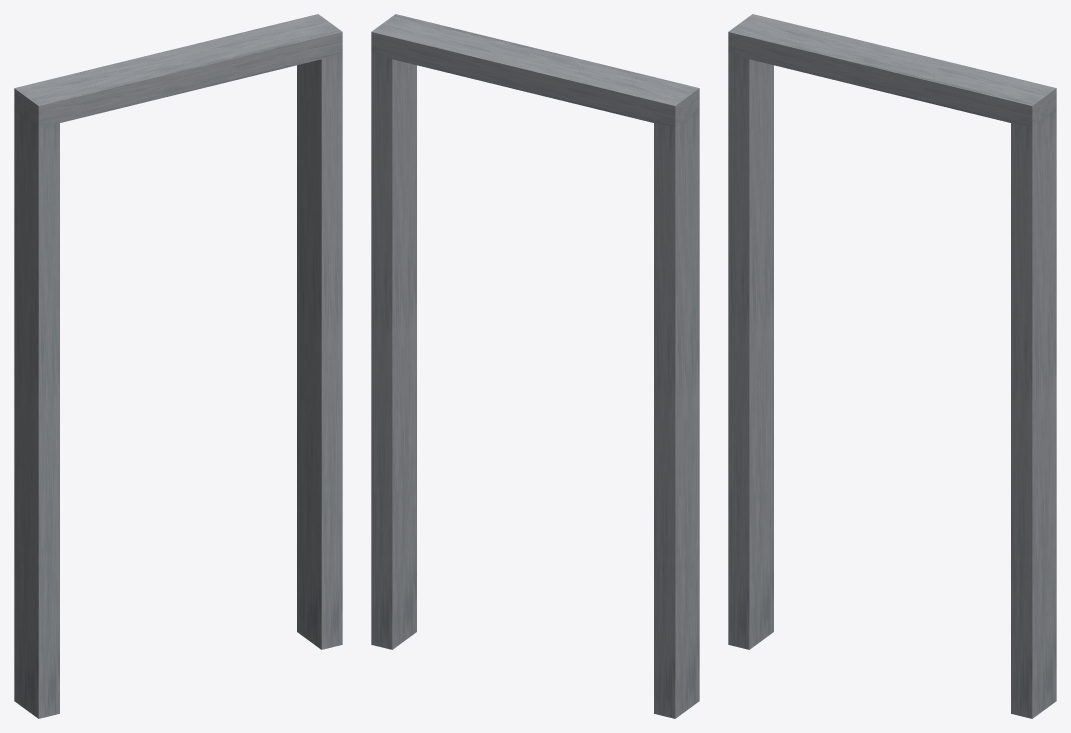
Rendered from cerca-03.obj.
3 views of the same model, side by side, from view 1: azimuth 30°, elevation 25°; view 2: azimuth 150°, elevation 25°; view 3: azimuth 330°, elevation 25° (orthographic).
Parts seen in each view (by area): view 1: Box023, Box022, Box024; view 2: Box023, Box022, Box024; view 3: Box022, Box023, Box024.
Part boxes in pixels (bbox=[...]): Box023: bbox=[14, 109, 59, 718]; Box022: bbox=[297, 52, 342, 649]; Box024: bbox=[14, 14, 342, 127]; Box023: bbox=[654, 109, 699, 718]; Box022: bbox=[371, 52, 416, 649]; Box024: bbox=[371, 14, 699, 128]; Box022: bbox=[1011, 109, 1056, 718]; Box023: bbox=[728, 52, 773, 649]; Box024: bbox=[728, 14, 1056, 128].
Bounding box in the file's own units: 21.5 × 41.4 × 3.
